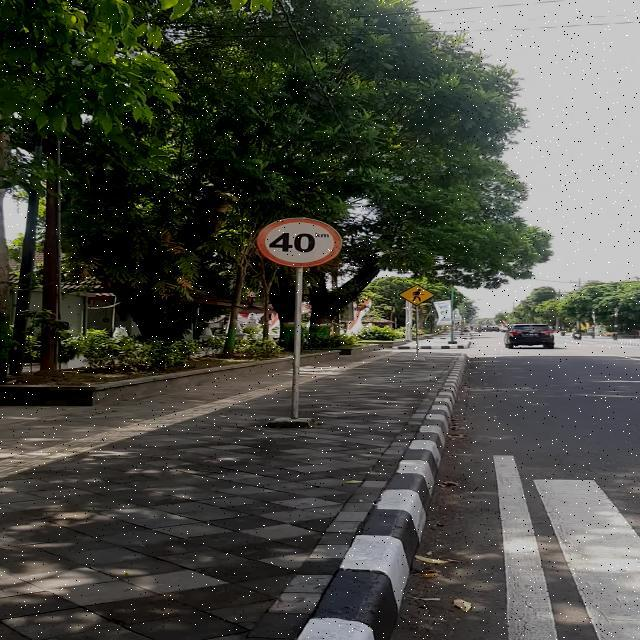Kecepatan Maks. 40 km: (256, 216, 343, 268)
